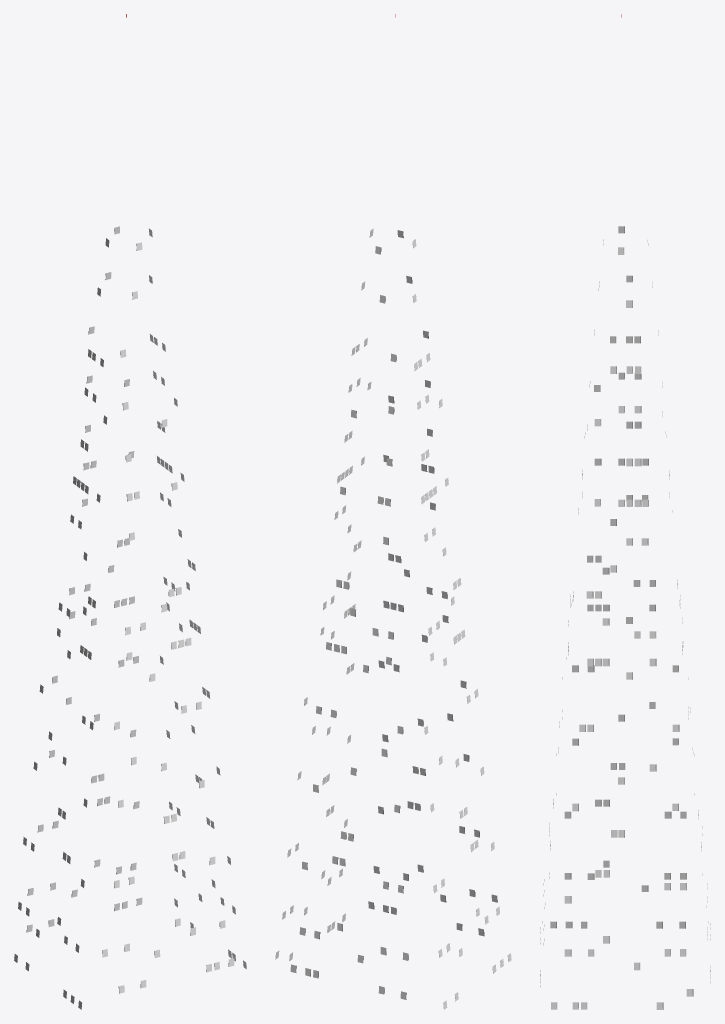
The model's file is nitelites_sfe01.obj.
The picture shows the model from 3 angles, left to right: view 1: azimuth 30°, elevation 25°; view 2: azimuth 150°, elevation 25°; view 3: azimuth 270°, elevation 25°; orthographic projection.
Visible parts, largest first — view 1: nitelites_sfe01; view 2: nitelites_sfe01; view 3: nitelites_sfe01.
Boxes of the visible parts, left/top/right/bottom form: nitelites_sfe01: left=14, top=14, right=246, bottom=1009; nitelites_sfe01: left=275, top=14, right=511, bottom=1009; nitelites_sfe01: left=540, top=14, right=710, bottom=1009.
Bounding box in the file's own units: 45.39 × 249 × 40.42.
2 materials, 2 textured.
